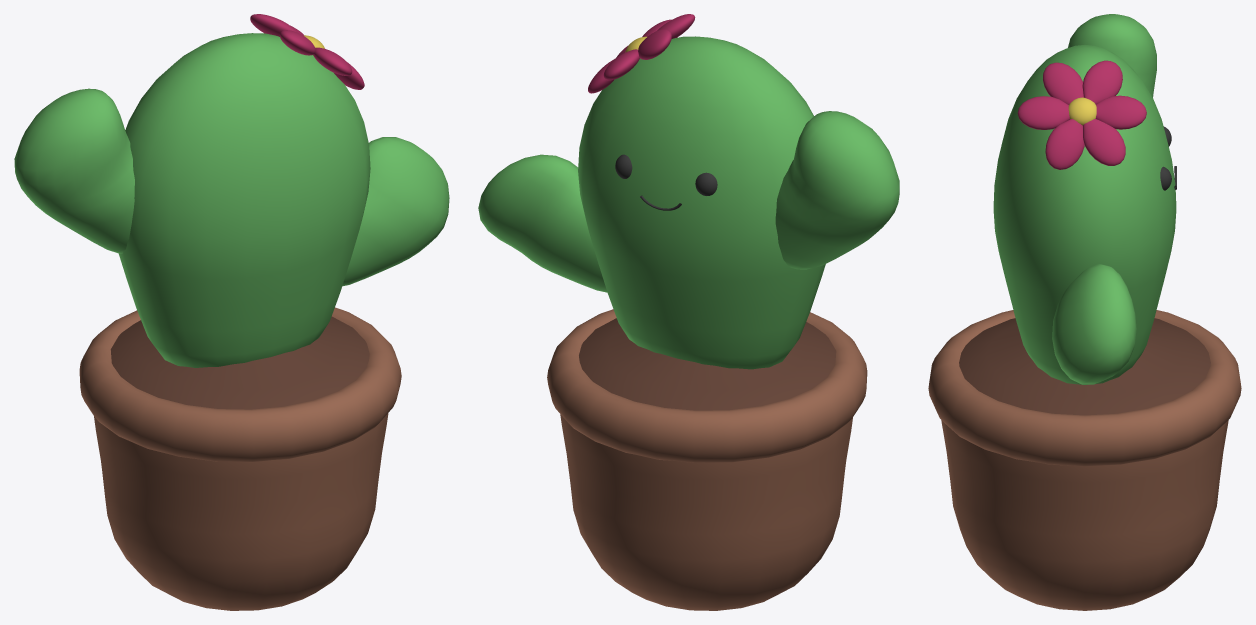
File: Prize1.fbx
3 renders of one model, left to right at view 1: azimuth 30°, elevation 25°; view 2: azimuth 150°, elevation 25°; view 3: azimuth 270°, elevation 25°, orthographic. The views are drawn at different scales.
Visible parts, largest first — view 1: pSphere7, pTorus2; view 2: pSphere7, pTorus2; view 3: pTorus2, pSphere7.
Boxes of the visible parts, x1=… form: pSphere7: x1=14, y1=14, x2=449, y2=367; pTorus2: x1=79, y1=307, x2=401, y2=610; pSphere7: x1=478, y1=14, x2=899, y2=369; pTorus2: x1=547, y1=309, x2=867, y2=610; pTorus2: x1=928, y1=310, x2=1241, y2=610; pSphere7: x1=993, y1=14, x2=1176, y2=384.
Size of the model in its own units: 5.76 by 7.32 by 3.82.
